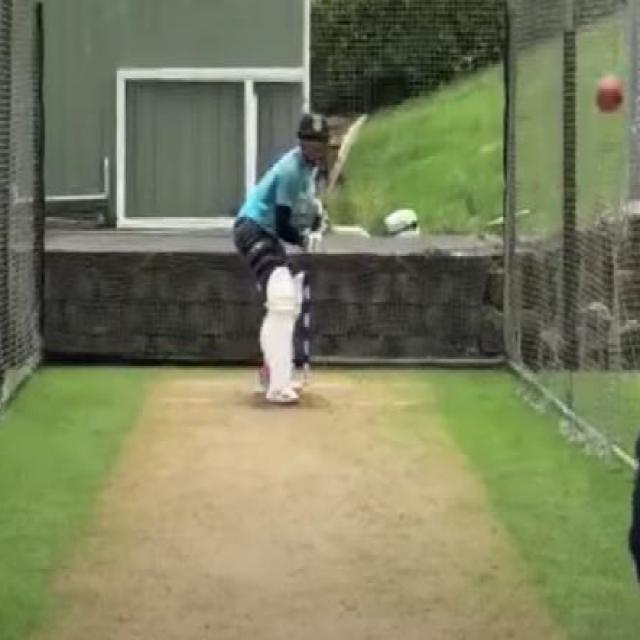ball: (588, 70, 626, 118)
